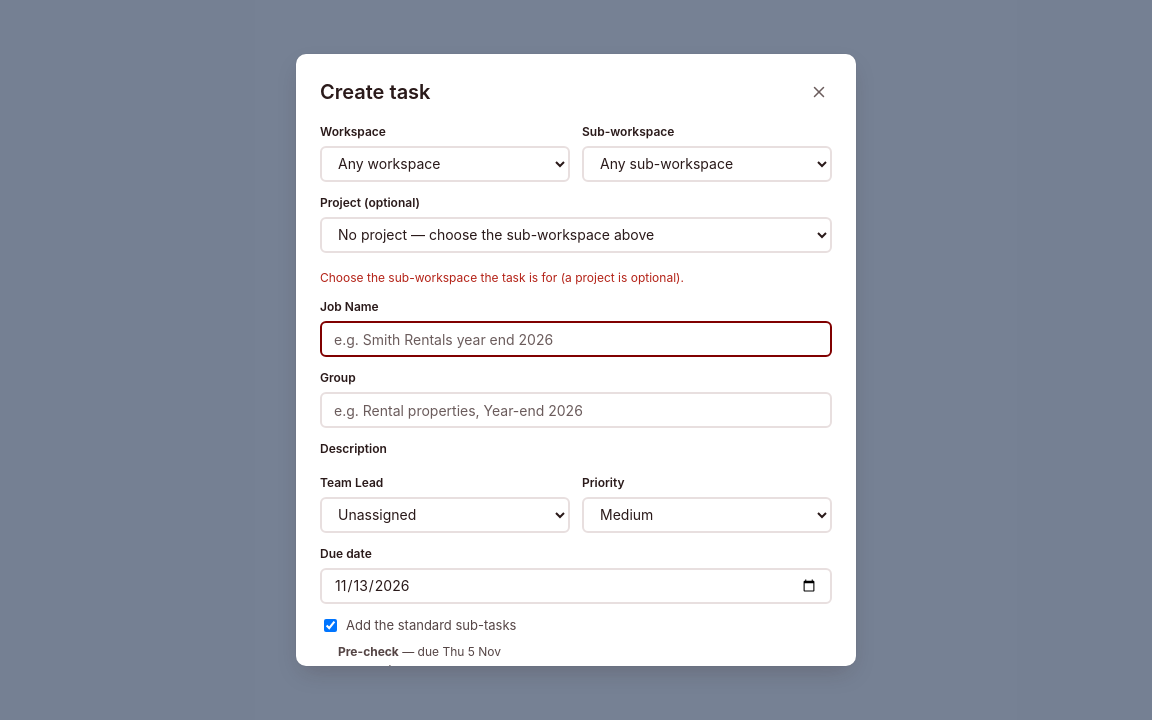
Scenario: CreateIssueModal: filled from where it was opened › needs a sub-workspace when no project is chosen
Expected: the text "Choose the sub-workspace the task is for" is shown, [320, 270, 684, 285]
Type "GST return" into the field labelled "Job Name" at (576, 339), box [320, 321, 832, 357]
(page scrolled)
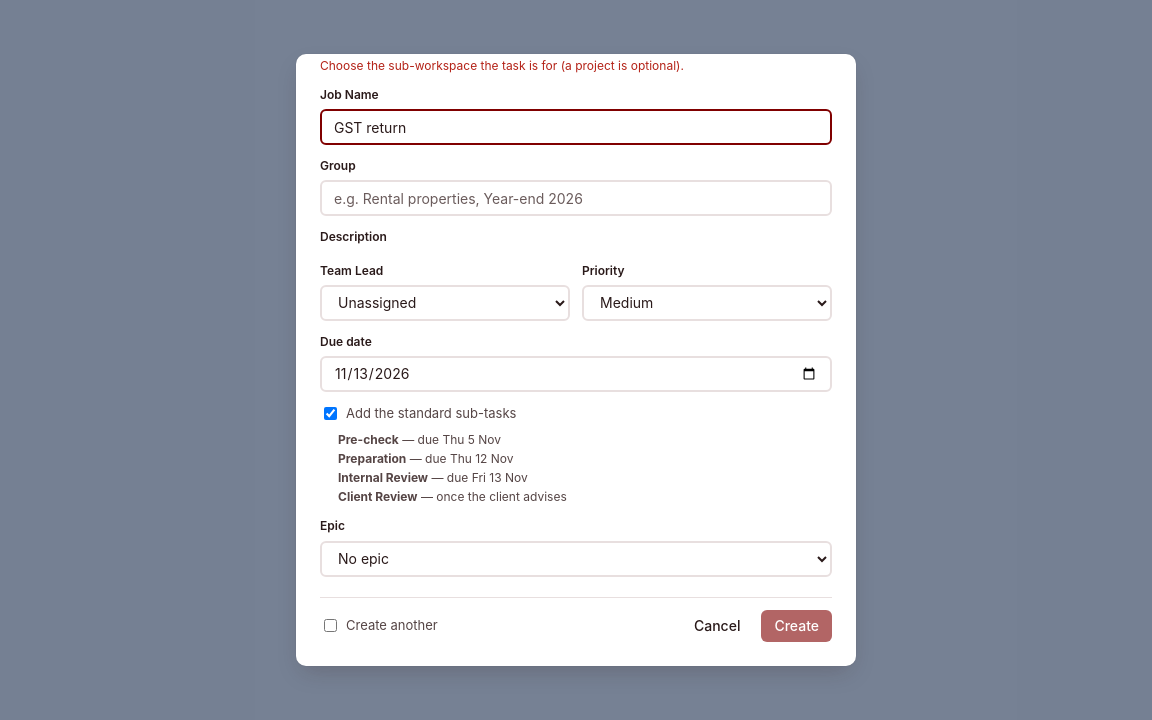
Expected: the button "Create" is disabled, [761, 610, 832, 642]
